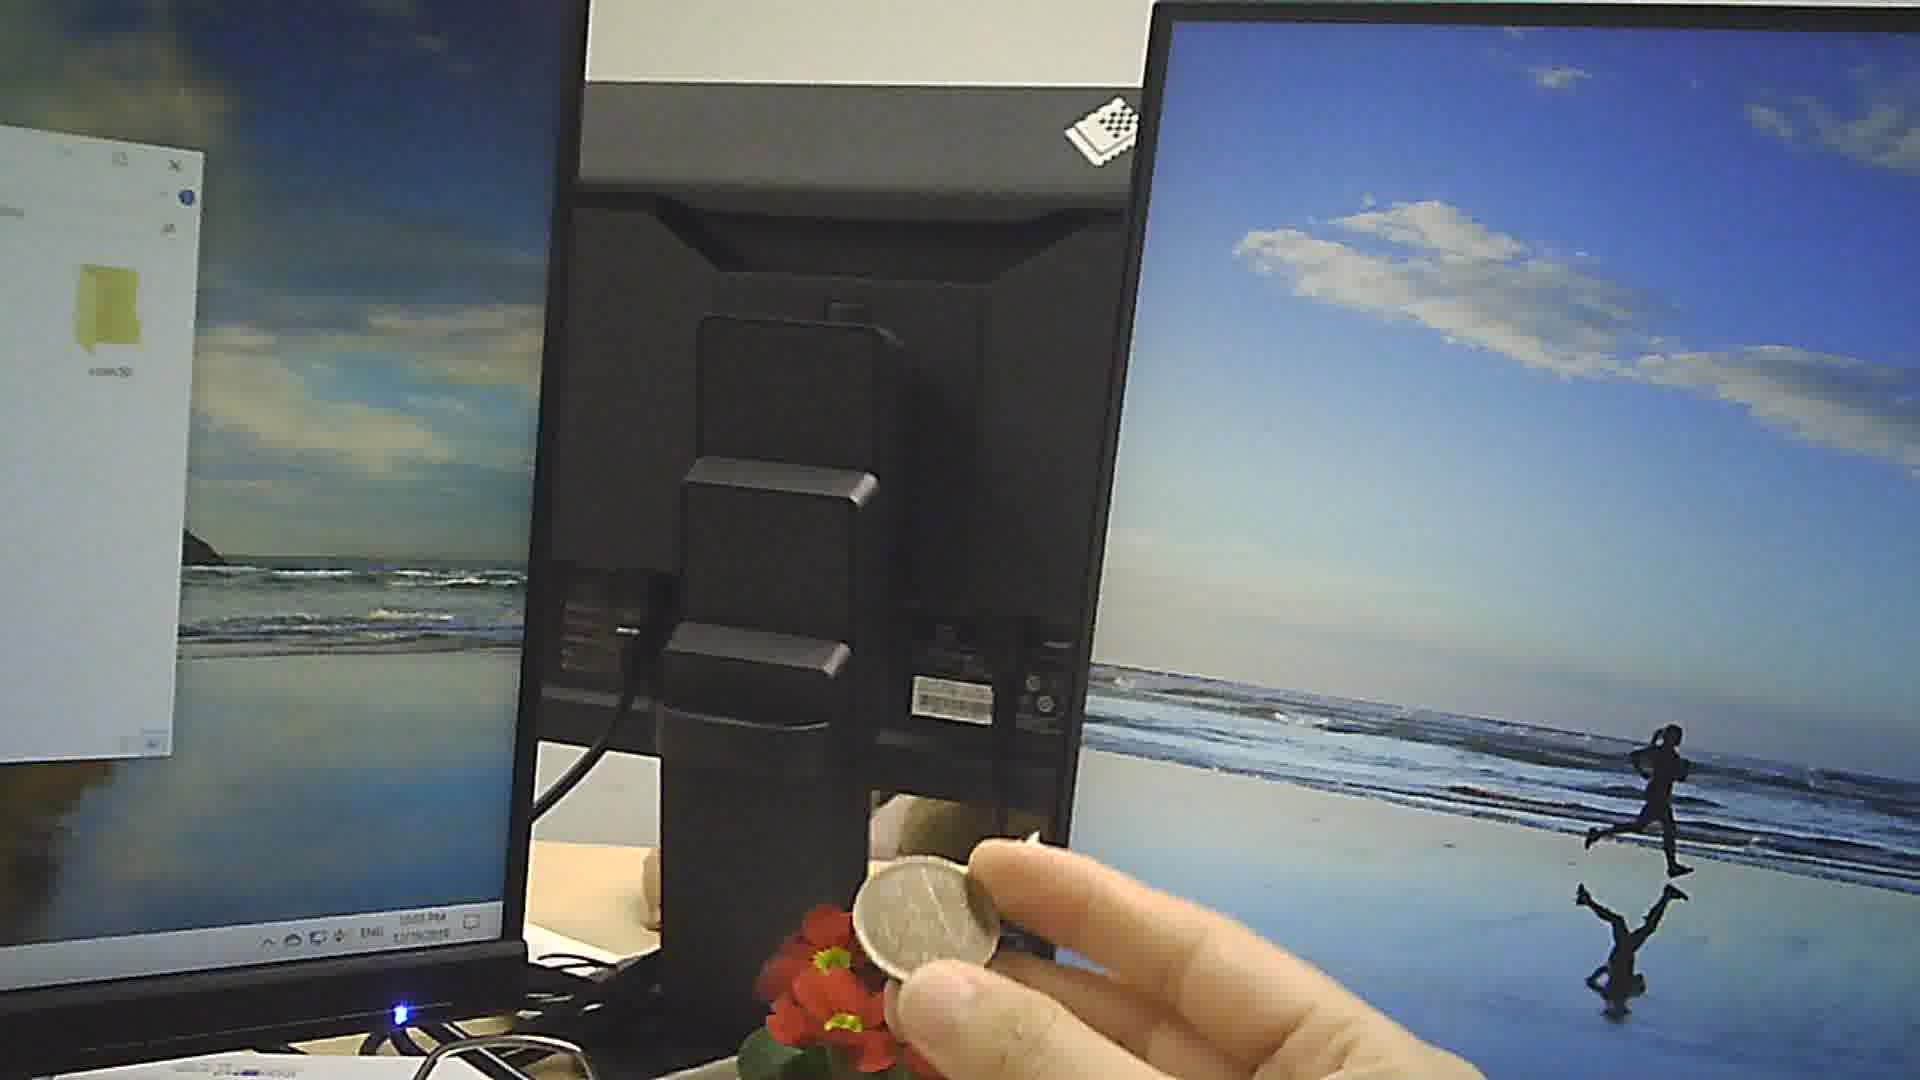10 Yen: (847, 848, 1009, 989)
